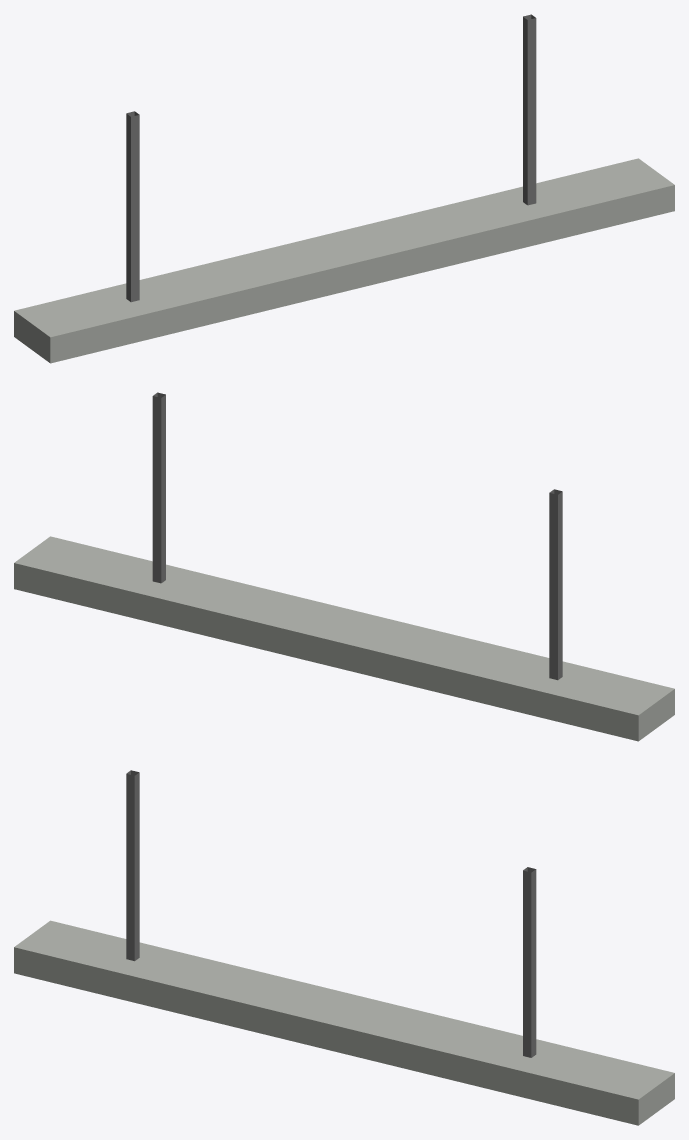
File: SM_Lamp_03.fbx
3 views of the same model, one above another, from view 1: azimuth 30°, elevation 25°; view 2: azimuth 150°, elevation 25°; view 3: azimuth 330°, elevation 25° (orthographic).
Parts seen in each view (by area): view 1: SM_Lamp_03; view 2: SM_Lamp_03; view 3: SM_Lamp_03.
Boxes of the visible parts, left/top/right/bottom form: SM_Lamp_03: left=14, top=14, right=674, bottom=363; SM_Lamp_03: left=14, top=392, right=674, bottom=741; SM_Lamp_03: left=14, top=770, right=674, bottom=1125.
Size of the model in its own units: 250 by 80.93 by 25.24.
Materials: 2 (2 with a texture image).
